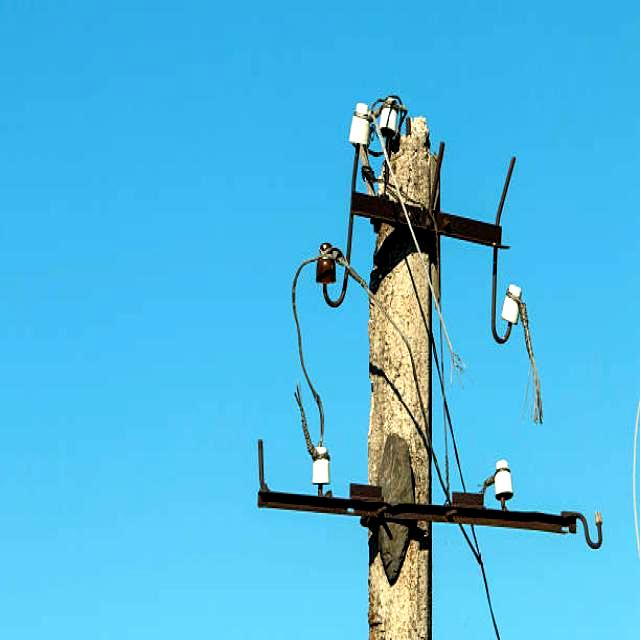Broken Pole: (239, 50, 615, 640)
